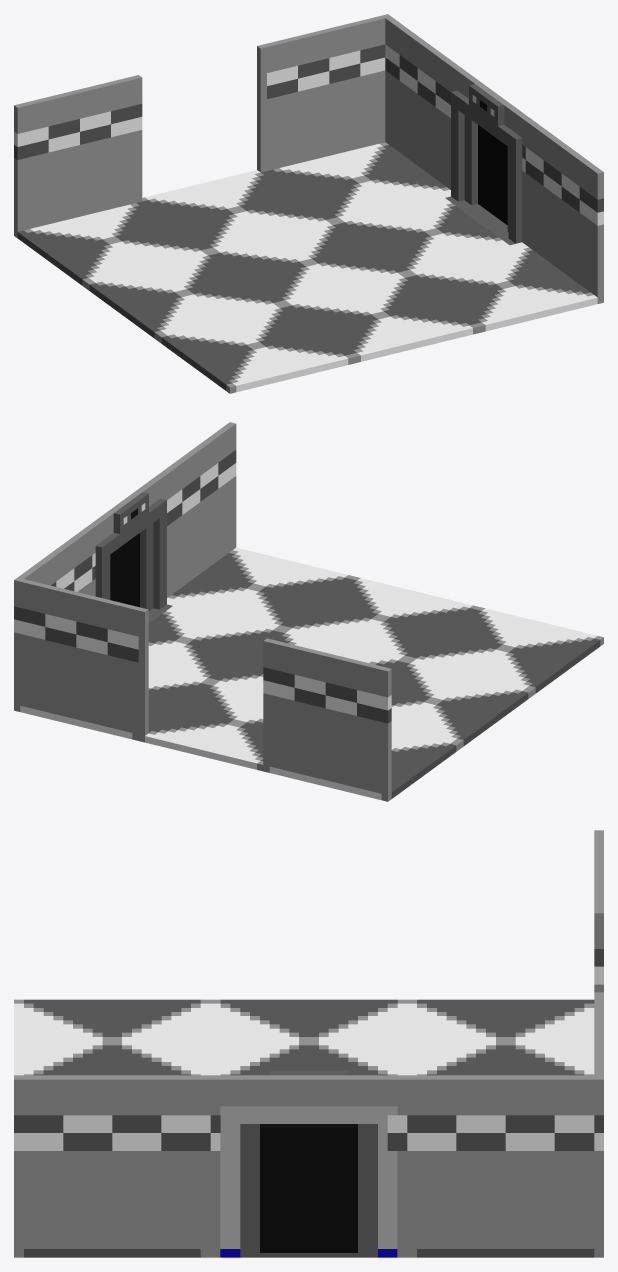
File: level_maze-28.obj
The picture shows the model from 3 angles, top to bottom: view 1: azimuth 30°, elevation 25°; view 2: azimuth 150°, elevation 25°; view 3: azimuth 270°, elevation 25°; orthographic projection. The views are drawn at different scales.
Parts seen in each view (by area): view 1: level_maze-28; view 2: level_maze-28; view 3: level_maze-28.
Boxes of the visible parts, left/top/right/bottom form: level_maze-28: left=14, top=14, right=603, bottom=393; level_maze-28: left=14, top=422, right=603, bottom=801; level_maze-28: left=14, top=830, right=603, bottom=1257.
Bounding box in the file's own units: 61 × 20 × 60.
1 material, 1 textured.
